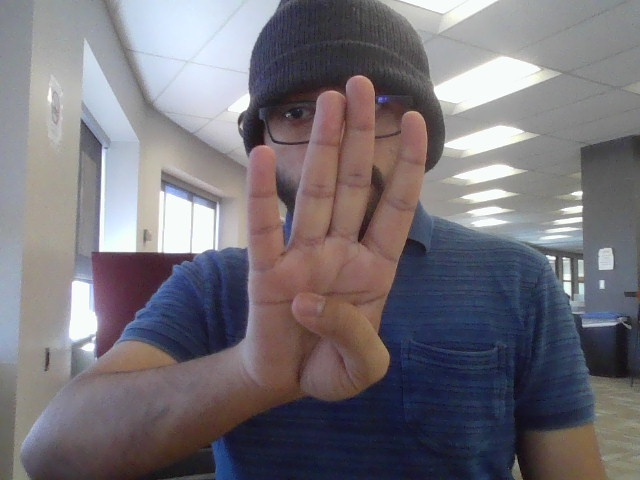start: (225, 73, 430, 403)
